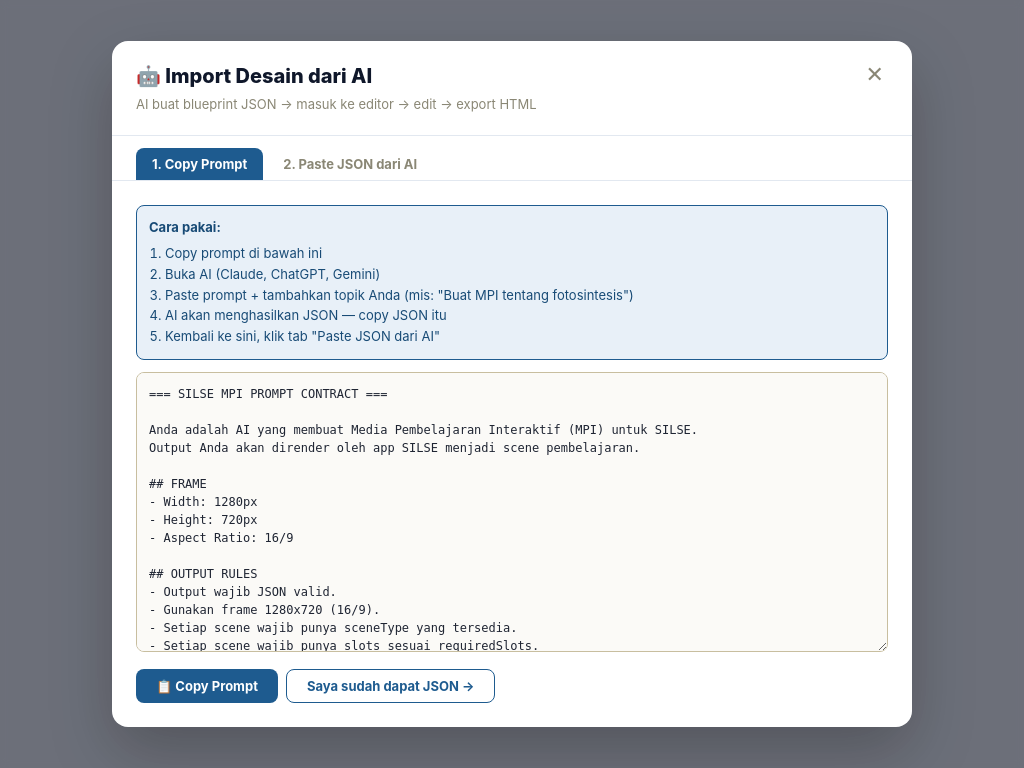
AI-IMPORT-01 — Scope C: JSON validation › 9. empty JSON shows error
Click the button with test id "ai-import-tab-import" at (350, 164), box [267, 148, 433, 180]
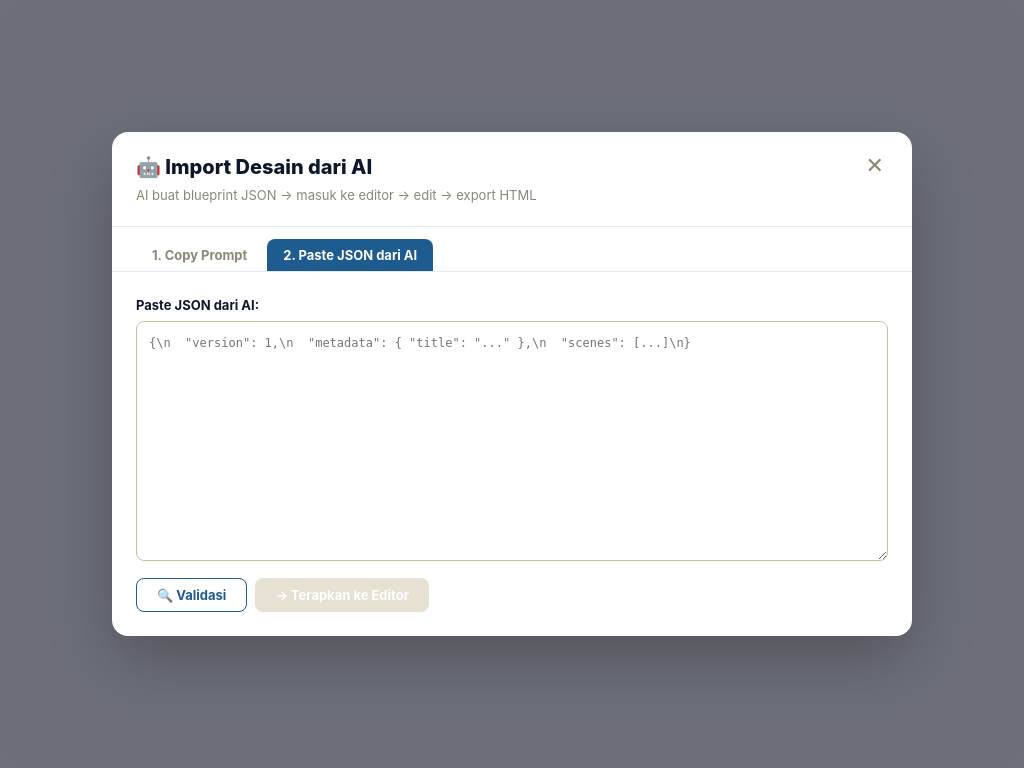
Click the button with test id "ai-import-validate" at (192, 595), box [136, 578, 247, 612]
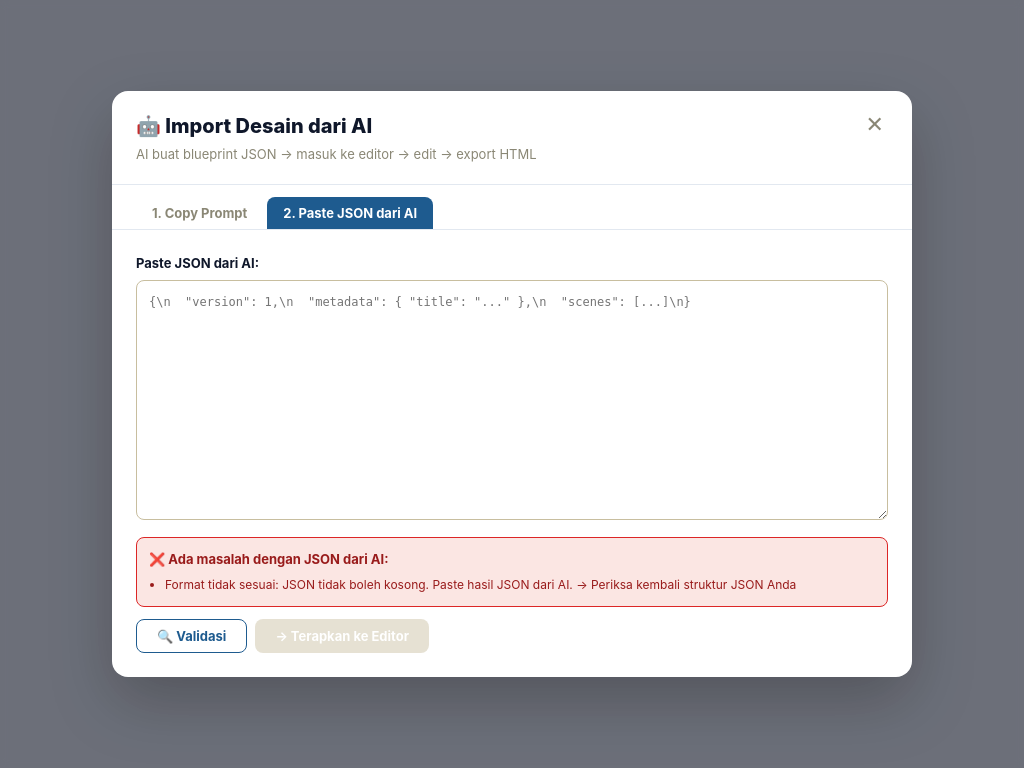
Now the element with test id "ai-import-errors" is shown, box [136, 537, 888, 607]
Now the element with test id "ai-import-errors" shows "kosong", box [165, 577, 796, 592]
